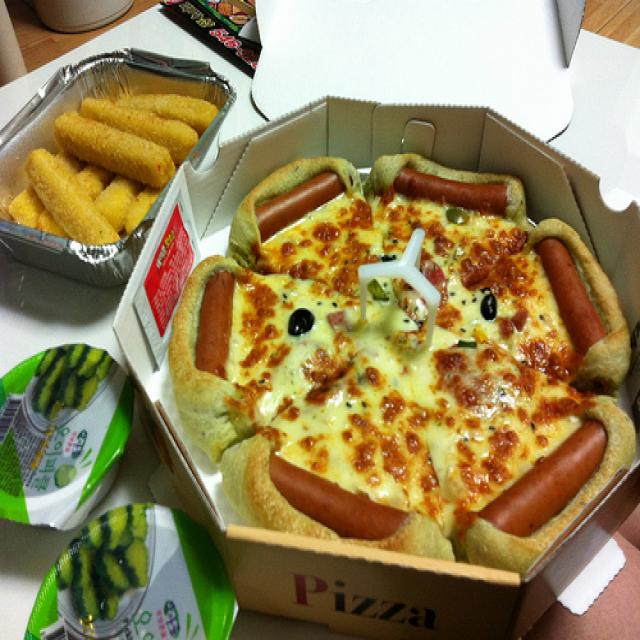Wet Waste: (167, 140, 640, 575)
